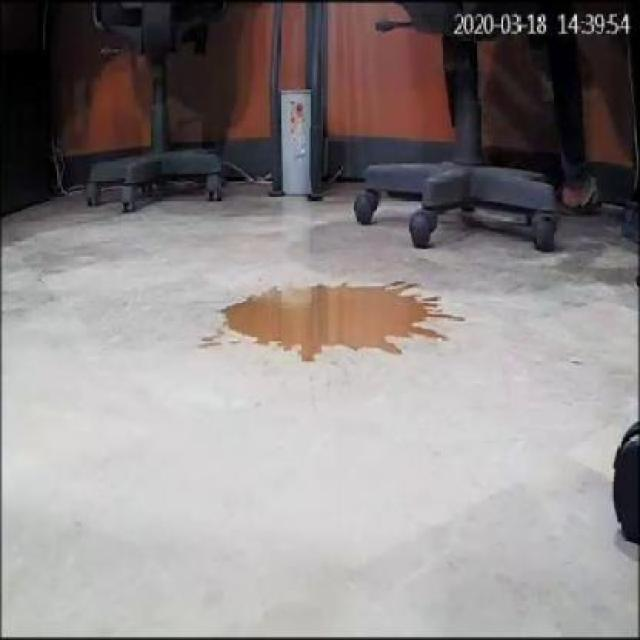spillage: (225, 287, 455, 361)
